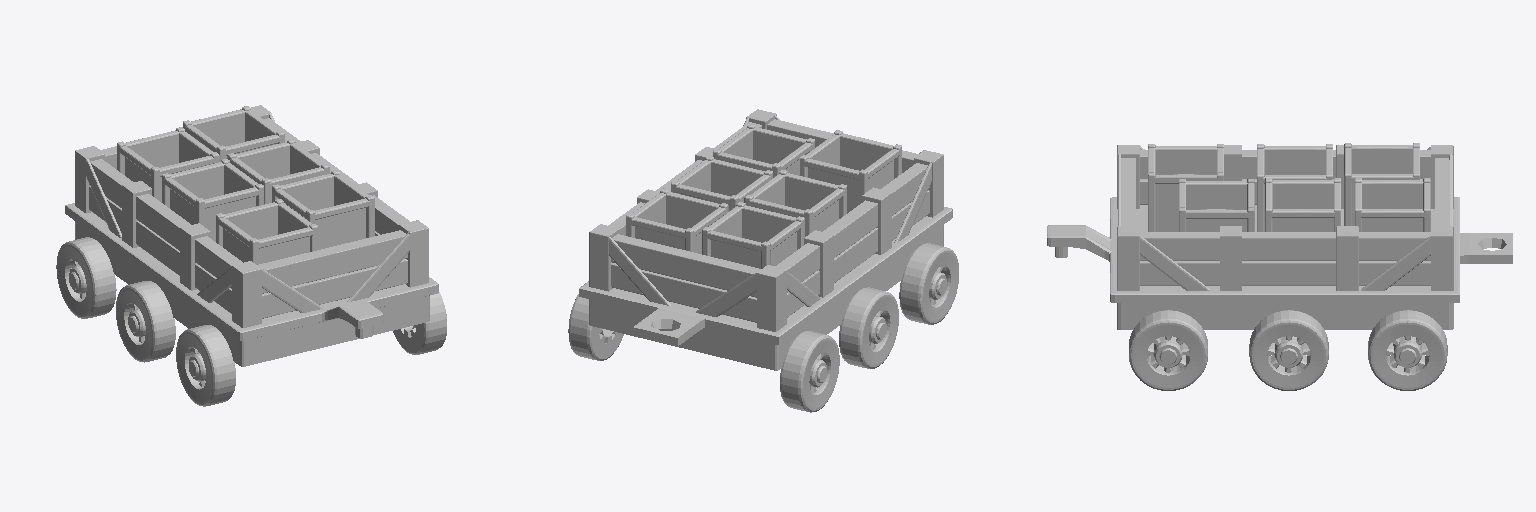
The model's file is SM_wagon_ressource.obj.
The picture shows the model from 3 angles: view 1: azimuth 30°, elevation 25°; view 2: azimuth 150°, elevation 25°; view 3: azimuth 270°, elevation 25°; orthographic projection.
Visible parts, largest first — view 1: Cube.014, wagon.002, roue.017, cagette.011, cagette.012, cagette.010, roue.016, roue.015, cagette.008, cagette.007, cagette.009, Cube.010 (+3 smaller); view 2: Cube.014, wagon.002, roue.015, cagette.008, cagette.012, cagette.007, roue.016, roue.017, cagette.010, cagette.011, cagette.009, Cube.011 (+3 smaller); view 3: Cube.014, wagon.002, roue.016, roue.015, roue.017, cagette.012, cagette.007, cagette.009, cagette.011, cagette.008, cagette.010, Cube.017 (+1 smaller).
Part boxes in pixels (x1,y1,x2,y2): Cube.014: (75,105,428,327); wagon.002: (65,203,438,366); roue.017: (176,292,446,406); cagette.011: (272,170,374,249); cagette.012: (216,199,317,264); cagette.010: (162,159,263,241); roue.016: (116,281,175,362); roue.015: (56,237,116,318); cagette.008: (117,127,219,202); cagette.007: (183,106,284,161); cagette.009: (227,139,329,203); Cube.010: (347,231,409,301); Cube.014: (589,109,943,331); wagon.002: (579,207,952,370); roue.015: (568,294,839,412); cagette.008: (702,202,804,268); cagette.012: (800,130,901,213); cagette.007: (626,188,728,253); roue.016: (839,287,898,368); roue.017: (899,243,958,324); cagette.010: (744,170,846,236); cagette.011: (713,124,814,177); cagette.009: (671,156,772,210); Cube.011: (609,237,670,305); Cube.014: (1117,145,1453,290); wagon.002: (1047,197,1512,329); roue.016: (1249,310,1328,390); roue.015: (1368,310,1447,390); roue.017: (1129,310,1207,390); cagette.012: (1148,144,1223,231); cagette.007: (1355,178,1430,231); cagette.009: (1265,178,1340,231); cagette.011: (1179,179,1254,231); cagette.008: (1344,143,1419,225); cagette.010: (1257,144,1332,231); Cube.017: (1140,236,1210,290).
Size of the model in its own units: 3.63 by 2.31 by 6.15.